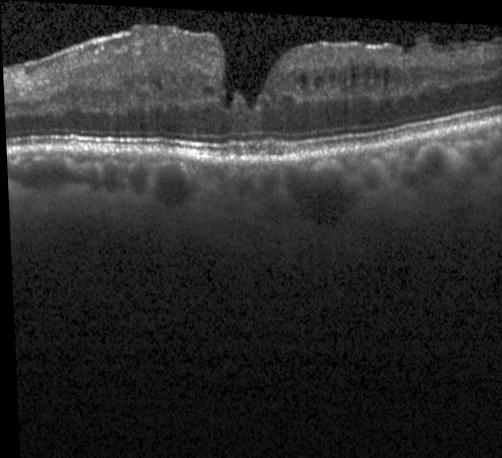intraretinal_cyst: (148, 78, 161, 92), (382, 62, 389, 84), (297, 71, 306, 87), (201, 86, 213, 95), (351, 60, 356, 80), (312, 73, 320, 85), (327, 68, 335, 80), (372, 63, 376, 81), (342, 74, 346, 83)
lamellar_macular_rupture: (219, 36, 288, 105)
